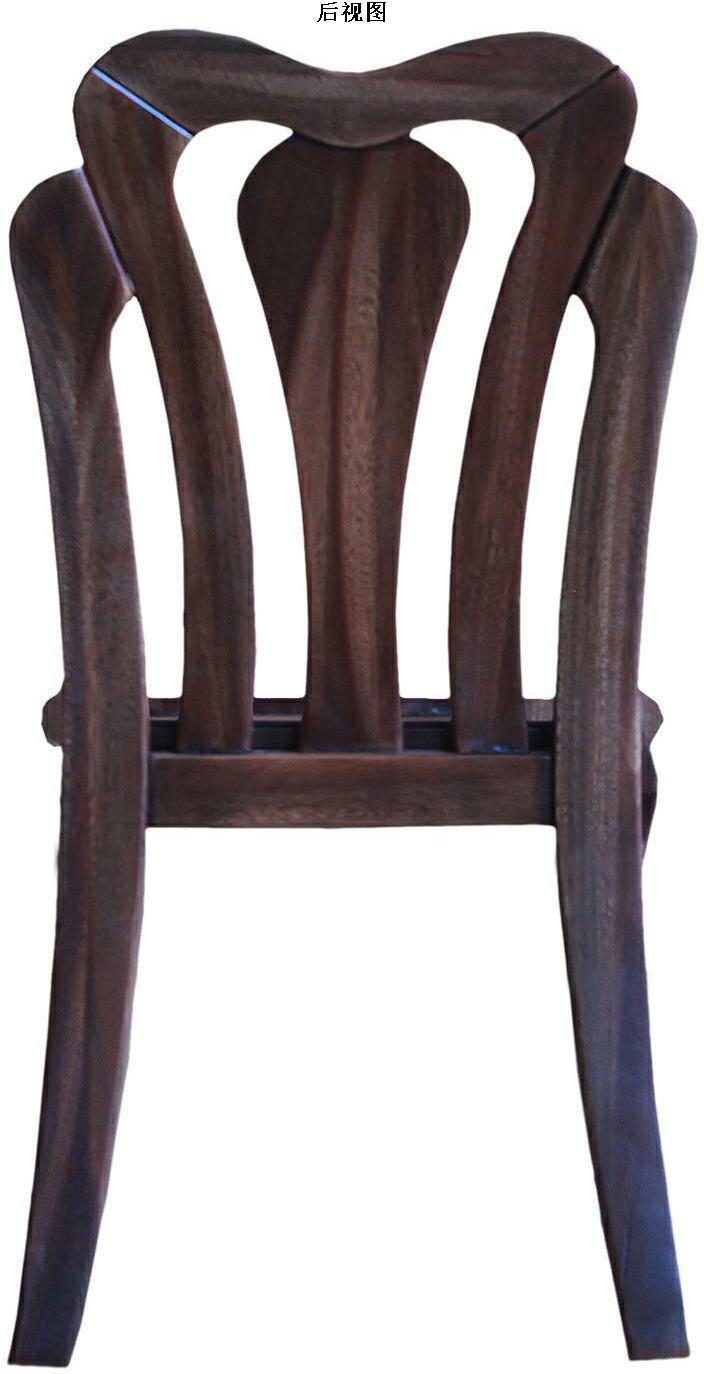obstacle: (11, 31, 693, 1364)
